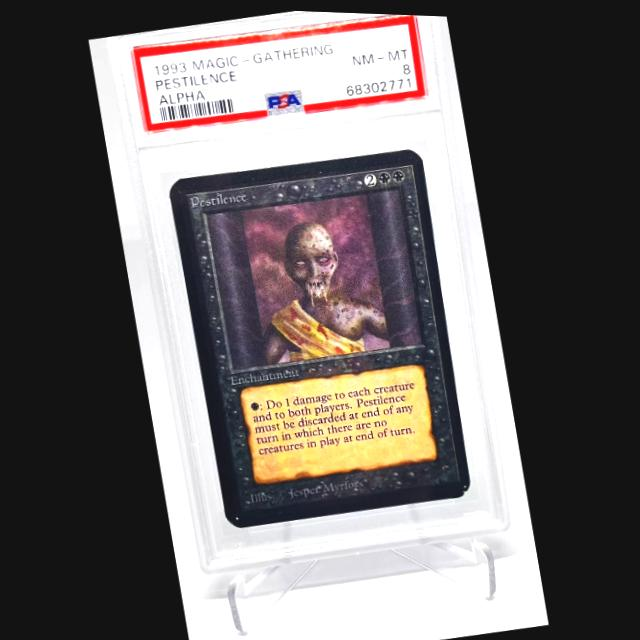card: (166, 144, 473, 527)
psa_label: (130, 12, 426, 131)
psa_slab: (104, 8, 513, 572)
